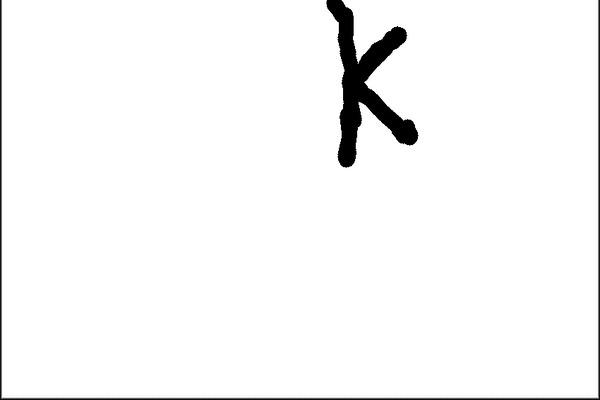K: (319, 3, 431, 174)
